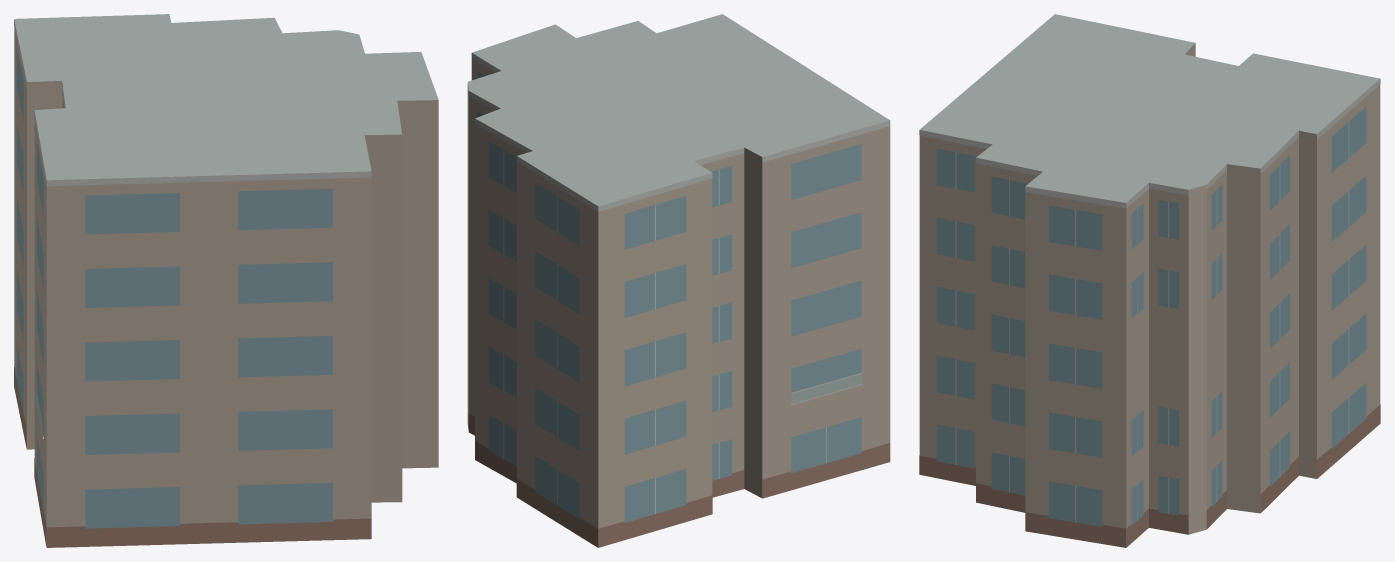
File: survey-upis-32695185.glb
The picture shows the model from 3 angles, left to right: view 1: azimuth 30°, elevation 25°; view 2: azimuth 150°, elevation 25°; view 3: azimuth 270°, elevation 25°; orthographic projection. The views are drawn at different scales.
Visible parts, largest first — view 1: survey-upis-32695185.tmp; view 2: survey-upis-32695185.tmp; view 3: survey-upis-32695185.tmp.
Boxes of the visible parts, x1=… form: survey-upis-32695185.tmp: x1=14, y1=14, x2=438, y2=547; survey-upis-32695185.tmp: x1=467, y1=14, x2=890, y2=547; survey-upis-32695185.tmp: x1=919, y1=14, x2=1380, y2=547.
Size of the model in its own units: 17.4 by 14.8 by 17.94.
